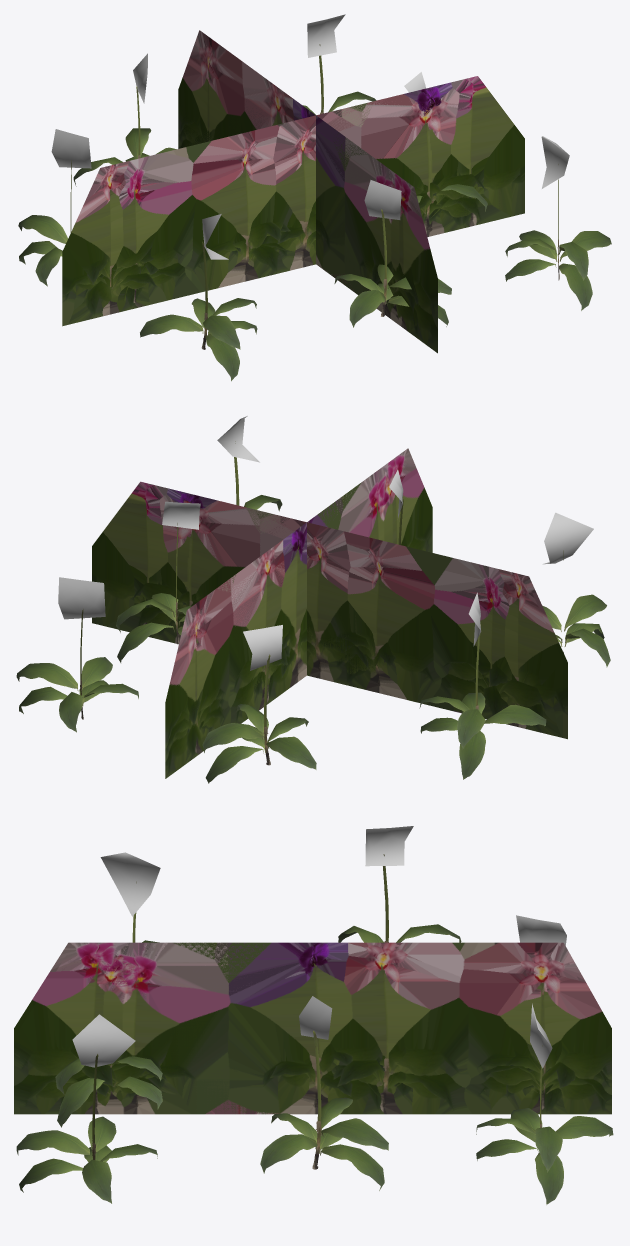
Rendered from Grass8.fbx.
The picture shows the model from 3 angles, top to bottom: view 1: azimuth 30°, elevation 25°; view 2: azimuth 150°, elevation 25°; view 3: azimuth 270°, elevation 25°; orthographic projection. The views are drawn at different scales.
Parts seen in each view (by area): view 1: Billboard, LOD0; view 2: Billboard, LOD0; view 3: Billboard, LOD0.
Part boxes in pixels (x1,y1,x2,y2): Billboard: (62, 30, 524, 353); LOD0: (18, 14, 611, 381); Billboard: (92, 448, 567, 778); LOD0: (16, 416, 610, 783); Billboard: (14, 942, 611, 1114); LOD0: (16, 826, 613, 1204).
Size of what is drawn, in the model's own units: 379 by 122 by 365.
